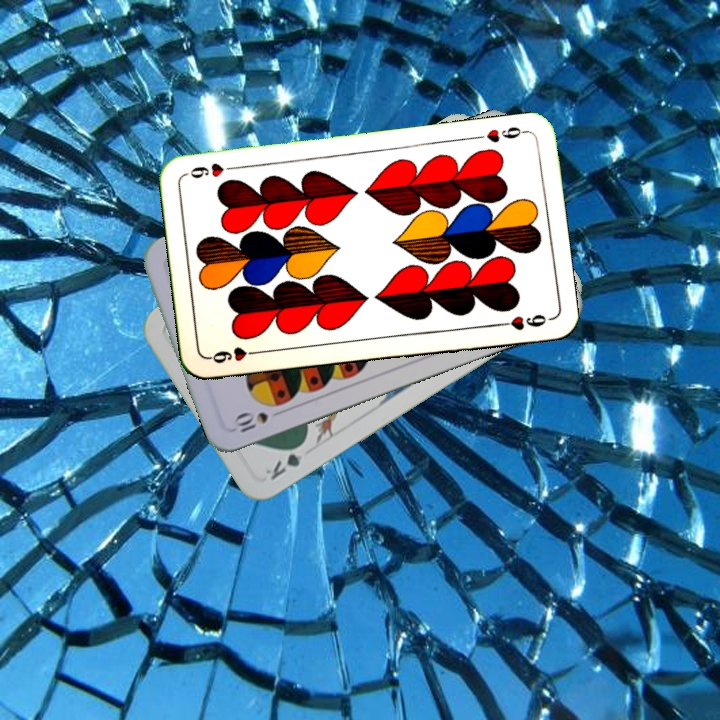GK: (261, 438, 309, 483)
H9: (205, 343, 264, 366), (482, 122, 530, 145)
S10: (229, 406, 286, 435)
